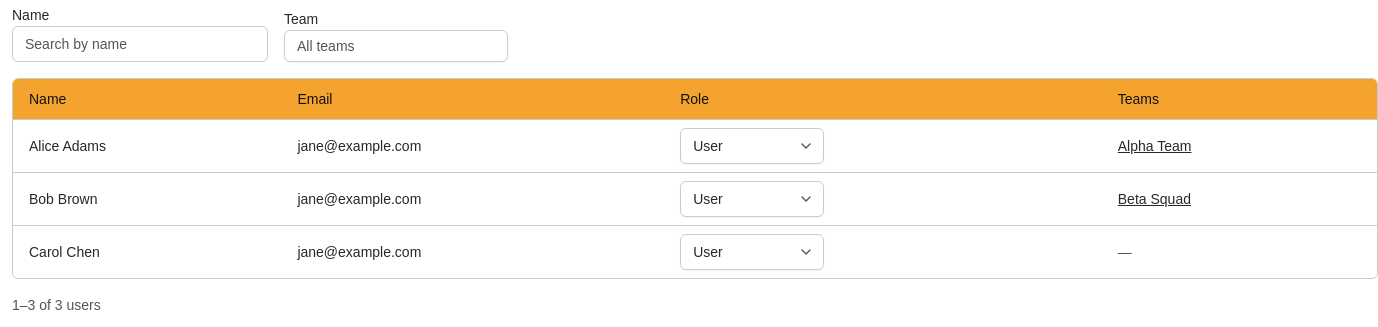
Scenario: UsersTableClient — team filter › filters to users with no team when "No team" is selected
The image size is (1378, 327).
Click the dropdown labelled "Team". click: (396, 46)
box: [284,30,508,62]
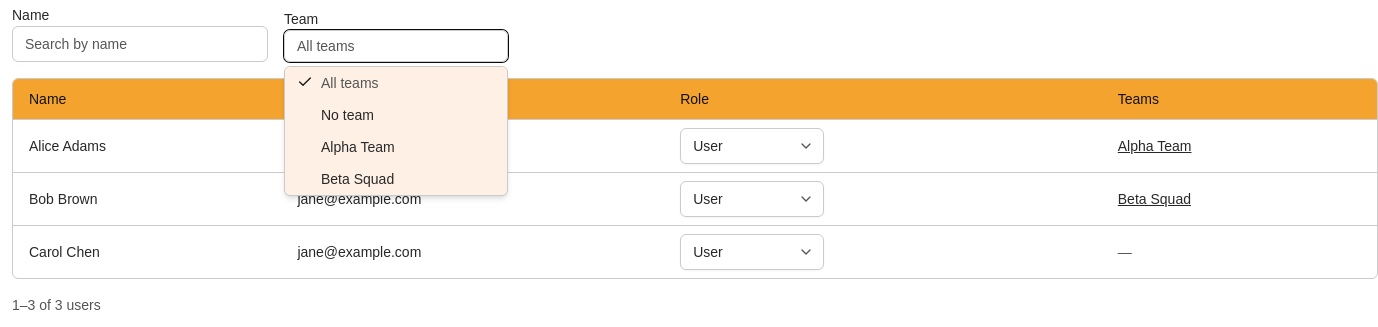
Click the option "No team". click: (396, 115)
box: [285,99,507,131]
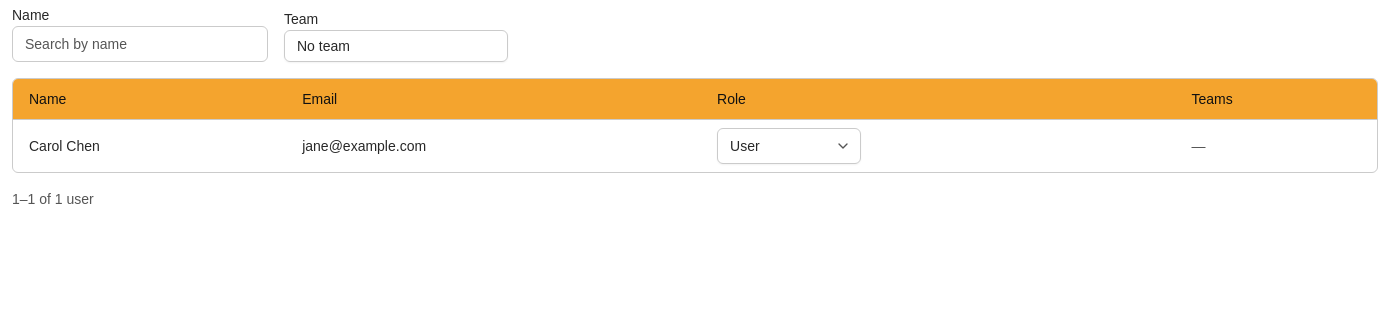
Expected: the text "Carol Chen" is shown, [29,138,100,154]
Now the text "Alice Adams" is gone
Now the text "Bob Brown" is gone
